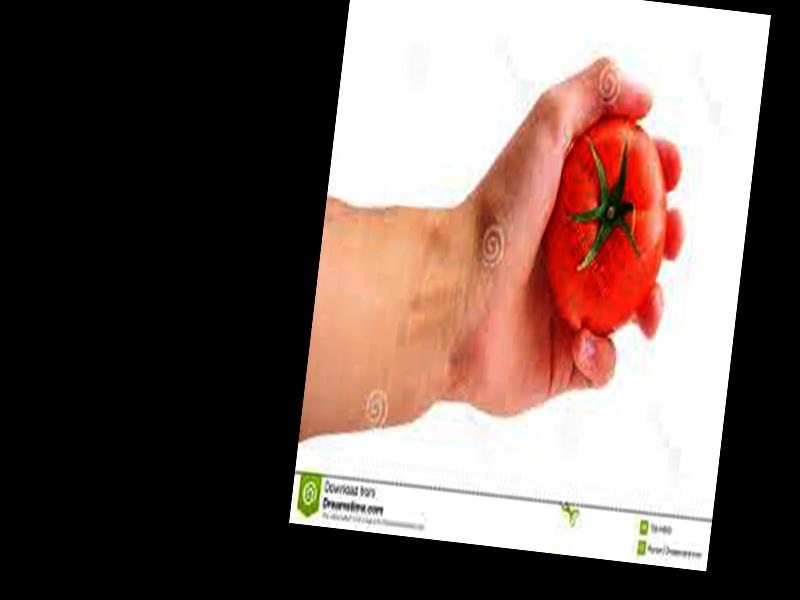Tomato: (537, 113, 678, 343)
